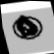correct: (3, 10, 47, 43)
